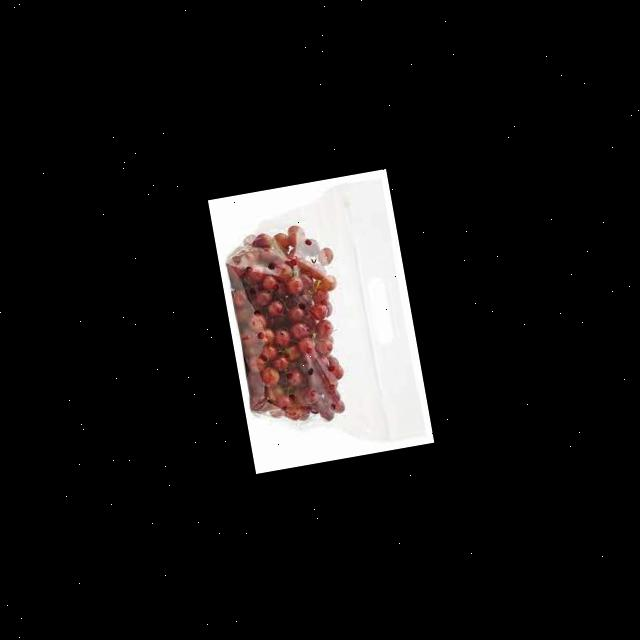grape: (230, 218, 362, 431)
